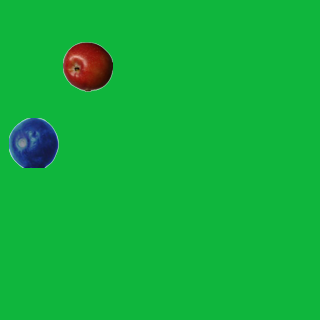Apple Braeburn: (62, 41, 112, 91)
Huckleberry: (8, 117, 58, 167)
